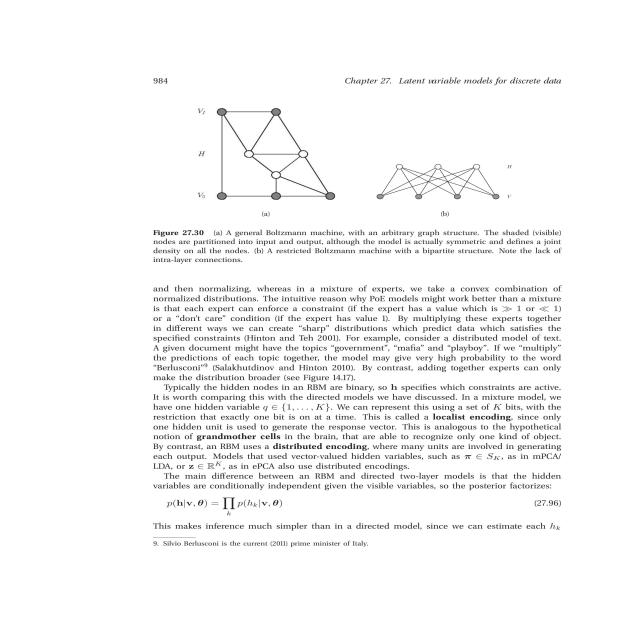diagram: (137, 93, 587, 273)
